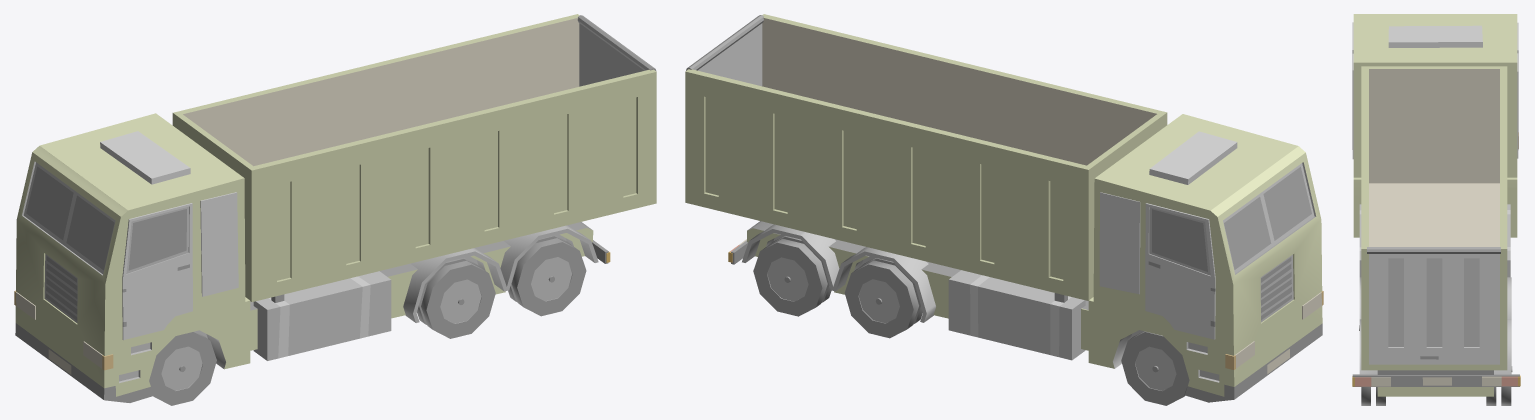
The model's file is kar11.fbx.
3 renders of one model, left to right at view 1: azimuth 30°, elevation 25°; view 2: azimuth 150°, elevation 25°; view 3: azimuth 270°, elevation 25°, orthographic. The views are drawn at different scales.
Parts seen in each view (by area): view 1: Boole, Extrude_1, Cylinder_4, Cylinder_3, Cylinder_1, Boole_2; view 2: Boole, Extrude_2, Cylinder_5, Cylinder, Cylinder_2, Boole_2; view 3: Boole, Boole_2, Cylinder, Cylinder_3.
Part boxes in pixels (<box>): Boole: <box>14,14,656,402</box>; Extrude_1: <box>122,203,192,340</box>; Cylinder_4: <box>417,258,495,338</box>; Cylinder_3: <box>508,235,586,316</box>; Cylinder_1: <box>149,331,216,405</box>; Boole_2: <box>577,15,656,86</box>; Boole: <box>685,14,1323,402</box>; Extrude_2: <box>1145,203,1215,339</box>; Cylinder_5: <box>844,258,922,338</box>; Cylinder: <box>753,235,831,316</box>; Cylinder_2: <box>1121,331,1189,405</box>; Boole_2: <box>686,15,763,86</box>; Boole: <box>1352,14,1520,396</box>; Boole_2: <box>1367,247,1500,364</box>; Cylinder: <box>1486,366,1512,405</box>; Cylinder_3: <box>1361,387,1385,405</box>.
Bounding box in the file's own units: 890 × 333 × 251.
